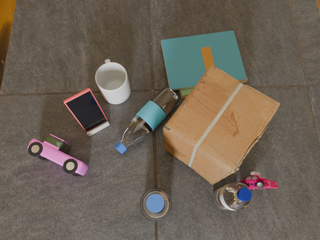book: (161, 31, 247, 91)
bottle: (114, 87, 179, 154), (213, 182, 252, 210), (140, 188, 172, 222)
box: (163, 65, 280, 185)
cup: (95, 59, 131, 104)
phone: (64, 88, 107, 132)
toy_car: (28, 134, 88, 177), (240, 172, 278, 191)
